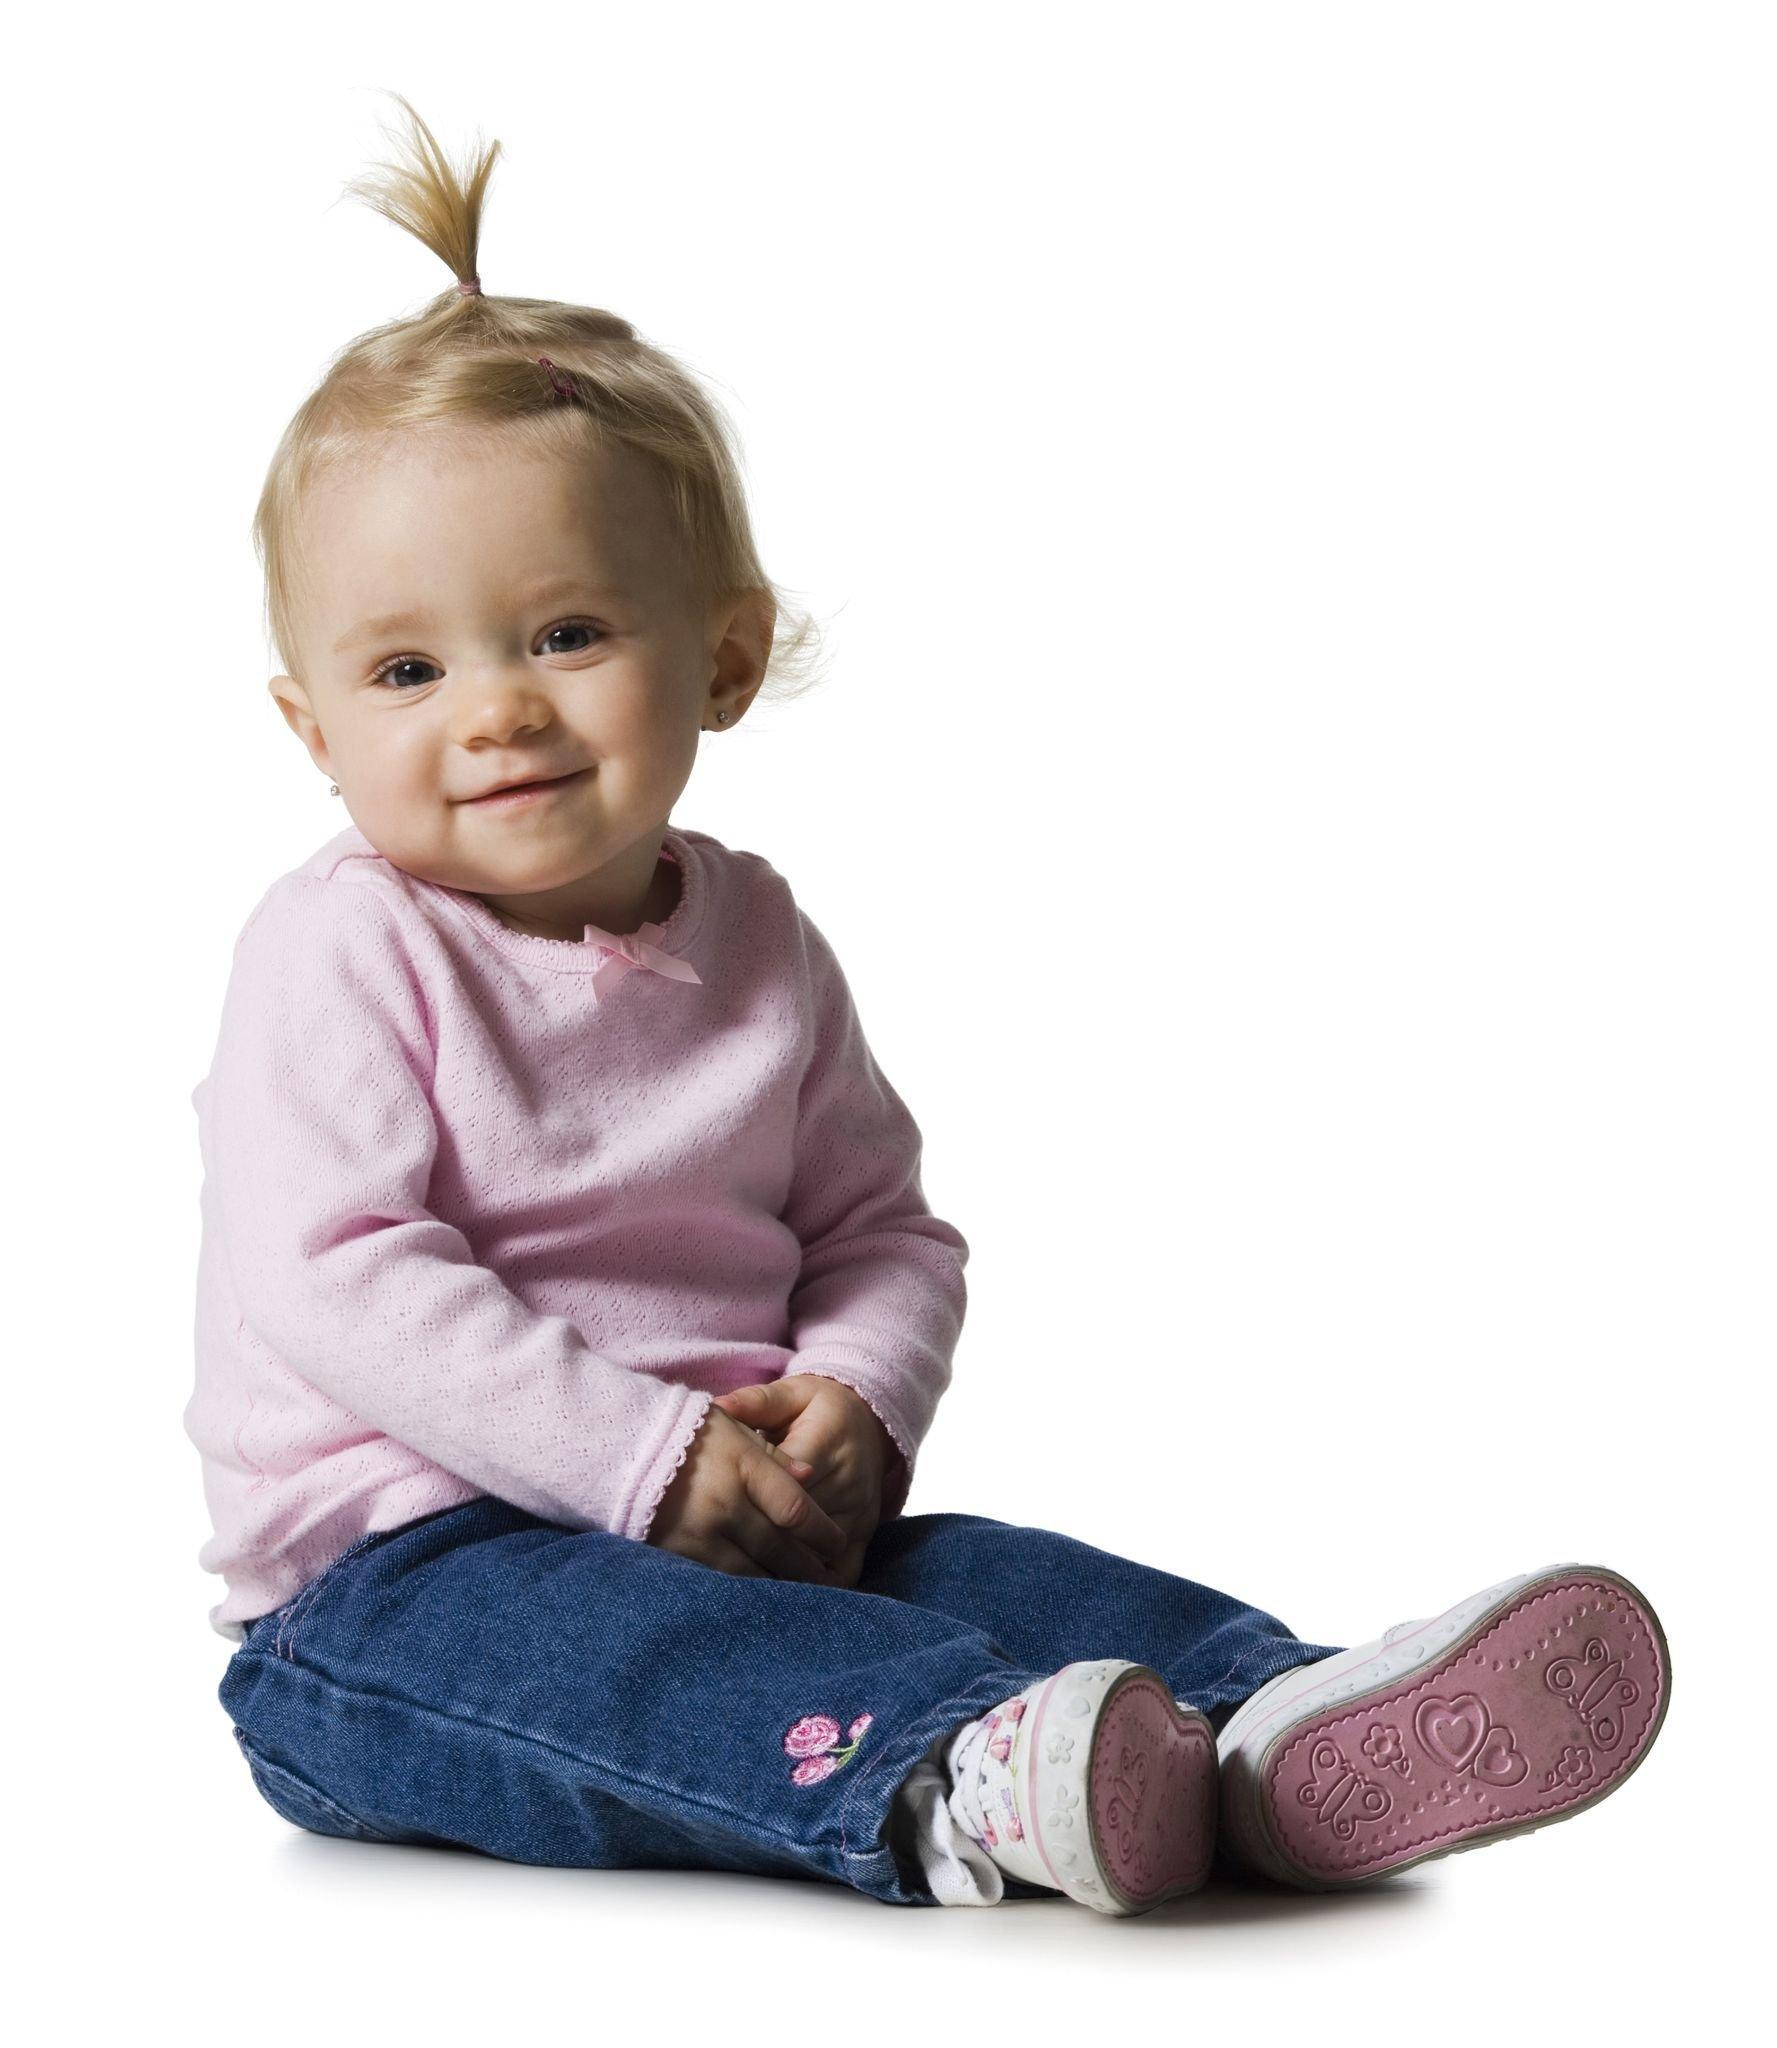Healthy: (192, 253, 918, 935)
